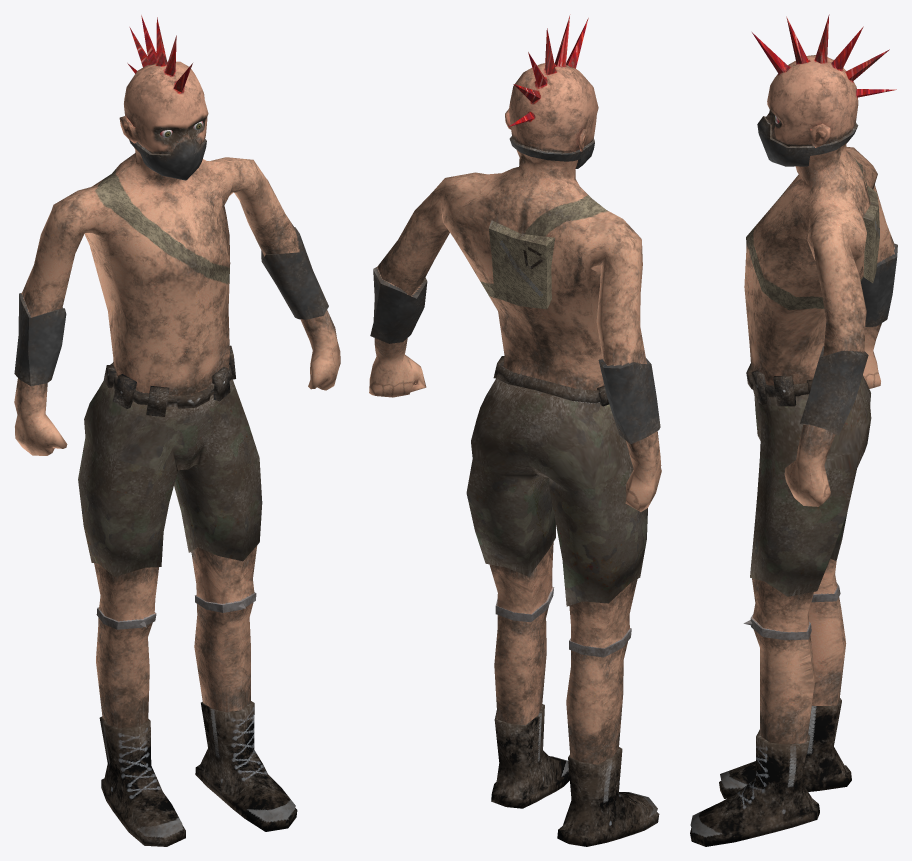
Rendered from Anim_ganar_1_npc2.0047.obj.
3 views of the same model, side by side, from view 1: azimuth 30°, elevation 25°; view 2: azimuth 150°, elevation 25°; view 3: azimuth 270°, elevation 25° (orthographic). The views are drawn at different scales.
Parts seen in each view (by area): view 1: polySurface1; view 2: polySurface1; view 3: polySurface1.
Boxes of the visible parts, bbox=[...] form: polySurface1: bbox=[14, 15, 340, 846]; polySurface1: bbox=[369, 14, 661, 846]; polySurface1: bbox=[690, 14, 897, 846].
Bounding box in the file's own units: 4.15 × 10.36 × 2.45.
Materials: 2 (2 with a texture image).
